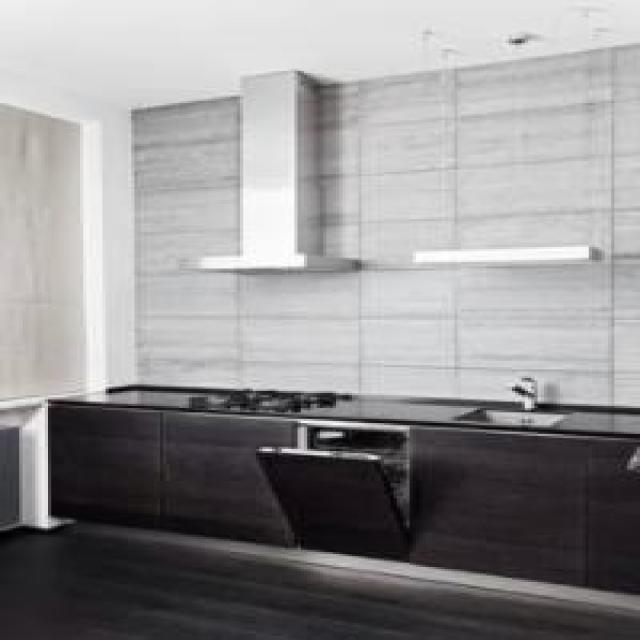dishwasher: (246, 412, 416, 565)
